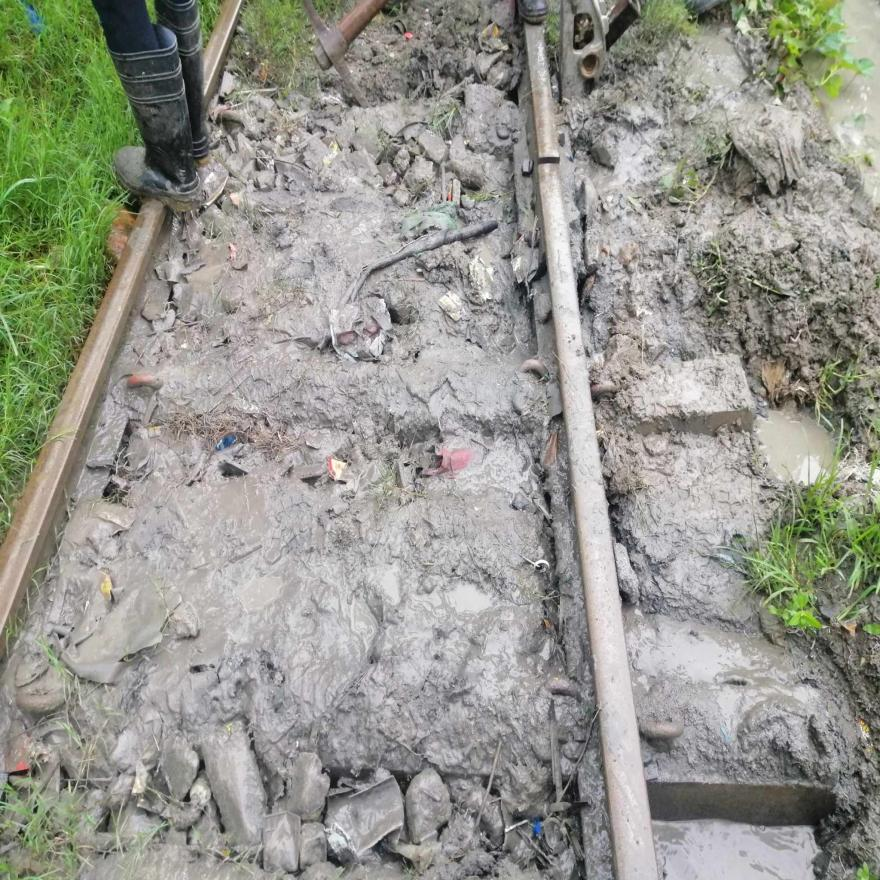railway-gap: (512, 124, 582, 206)
